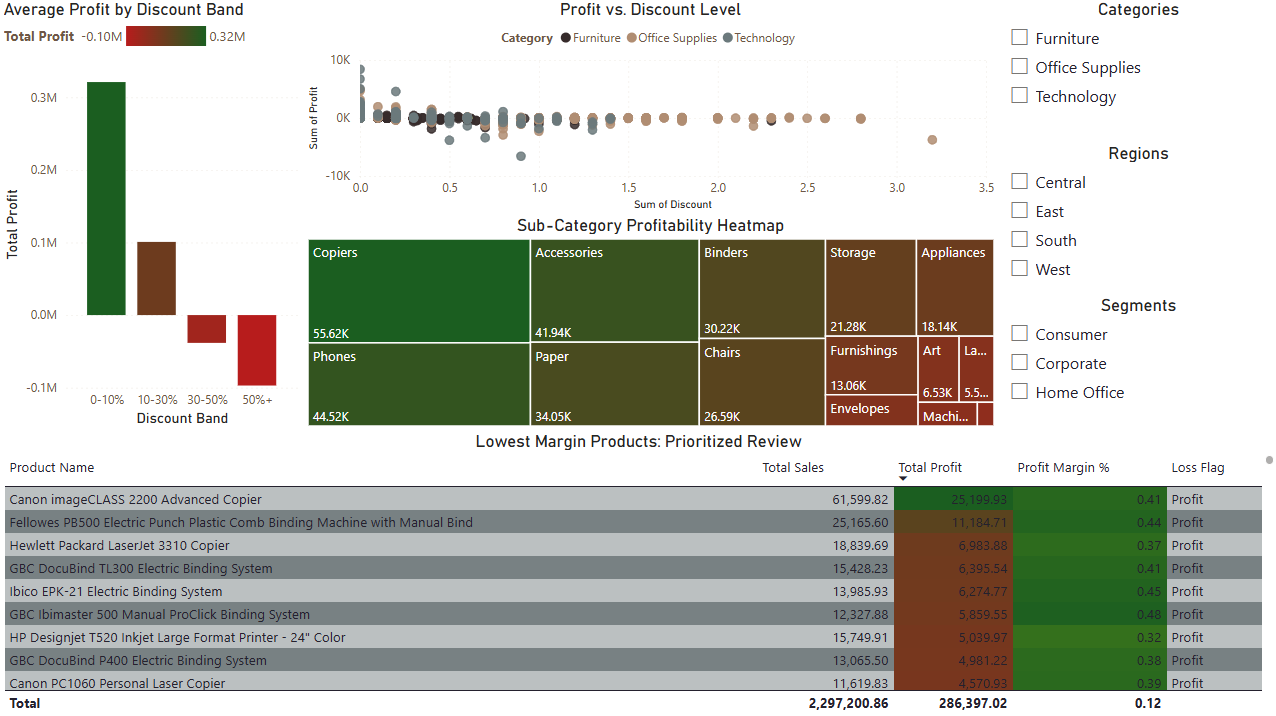

The dashboard page shown, as its layout file describes it:
{"tool":"powerbi","page":{"name":"Profitability Drivers","canvas":[1280,720],"ordinal":1},"visuals":[{"type":"slicer","title":"Categories","fields":{"Values":["superstore.Category"]},"box":[999.9,-0.3,280,144],"z":0},{"type":"slicer","title":"Regions","fields":{"Values":["superstore.Region"]},"box":[999.9,143.7,280,152],"z":1000},{"type":"slicer","title":"Segments","fields":{"Values":["superstore.Segment"]},"box":[999.9,295.7,280,136],"z":2000},{"type":"scatterChart","title":"Profit vs. Discount Level","fields":{"X":["Sum(superstore.Discount)"],"Y":["Sum(superstore.Profit)"],"Series":["superstore.Category"],"Category":["superstore.Order ID"]},"box":[304,0,696,216],"z":3000},{"type":"clusteredColumnChart","title":"Average Profit by Discount Band","fields":{"Category":["superstore.Discount Band"],"Y":["superstore.Total Profit"]},"box":[0,0,304,432],"z":4000},{"type":"treemap","title":"Sub-Category Profitability Heatmap","fields":{"Group":["superstore.Sub-Category"],"Values":["superstore.Total Profit"]},"box":[304,216,696,216],"z":5000},{"type":"tableEx","title":"Lowest Margin Products: Prioritized Review","fields":{"Values":["superstore.Product Name","superstore.Total Sales","superstore.Total Profit","superstore.Profit Margin %","superstore.Loss Flag"]},"box":[0,432,1280,288],"z":6000}]}

Visuals, with their boxes in screenshot pixels (x1, y1, x2, y2), scaled from the page's 1280x720 canvas onto the 1276x716 screenshot:
"Categories" slicer: left=997, top=0, right=1275, bottom=143
"Regions" slicer: left=997, top=143, right=1275, bottom=294
"Segments" slicer: left=997, top=294, right=1275, bottom=429
"Profit vs. Discount Level" scatterChart: left=303, top=0, right=997, bottom=215
"Average Profit by Discount Band" clusteredColumnChart: left=0, top=0, right=303, bottom=430
"Sub-Category Profitability Heatmap" treemap: left=303, top=215, right=997, bottom=430
"Lowest Margin Products: Prioritized Review" tableEx: left=0, top=430, right=1275, bottom=715
